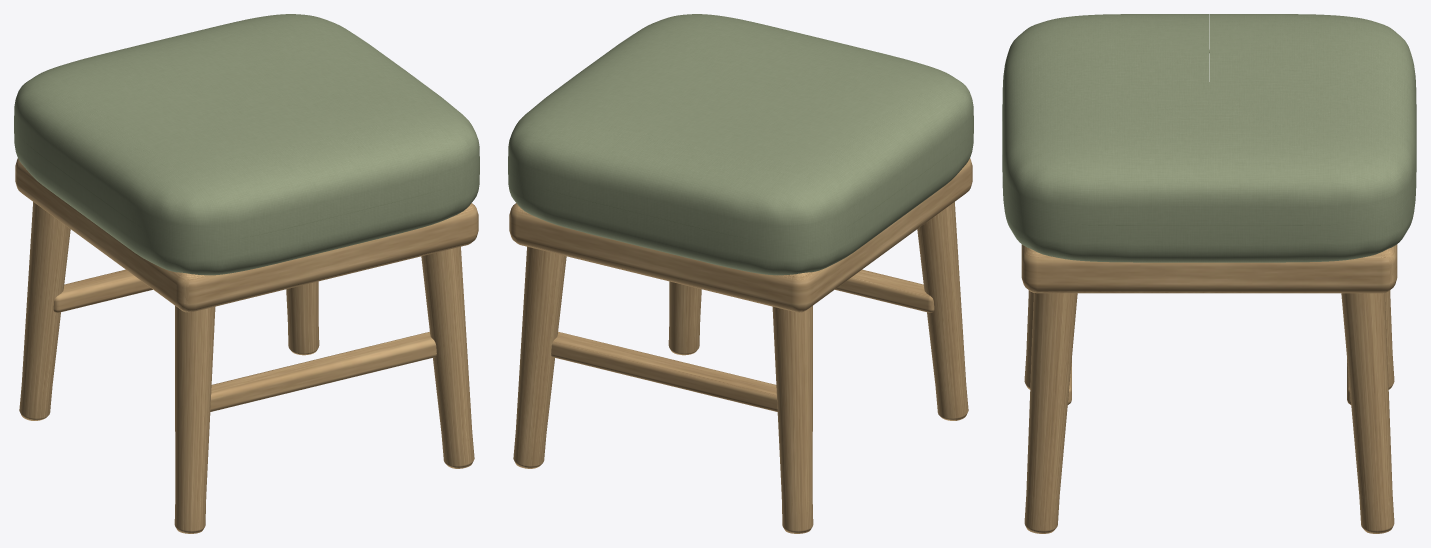
Rendered from home_stool.glb.
3 views of the same model, side by side, from view 1: azimuth 30°, elevation 25°; view 2: azimuth 150°, elevation 25°; view 3: azimuth 270°, elevation 25° (orthographic). The views are drawn at different scales.
Parts seen in each view (by area): view 1: Linen_Sage_detail_group, Oak_detail_group; view 2: Linen_Sage_detail_group, Oak_detail_group; view 3: Linen_Sage_detail_group, Oak_detail_group.
Boxes of the visible parts, left/top/right/bottom form: Linen_Sage_detail_group: left=14, top=14, right=479, bottom=275; Oak_detail_group: left=15, top=158, right=478, bottom=533; Linen_Sage_detail_group: left=508, top=14, right=973, bottom=275; Oak_detail_group: left=509, top=158, right=972, bottom=533; Linen_Sage_detail_group: left=1002, top=14, right=1416, bottom=262; Oak_detail_group: left=1021, top=244, right=1397, bottom=533.
Size of the model in its own units: 0.52 by 0.52 by 0.52.
3 materials, 2 textured.
